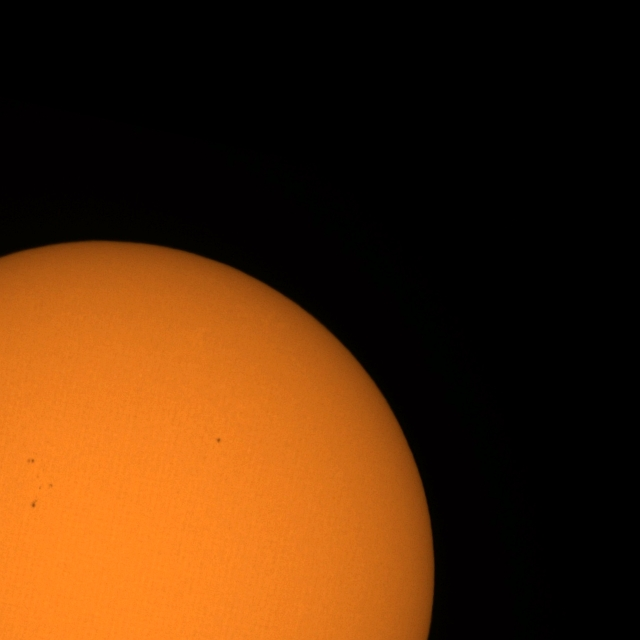sunspot: (30, 482, 53, 502), (30, 498, 38, 509), (26, 457, 35, 465), (46, 482, 54, 490), (215, 436, 222, 444)
